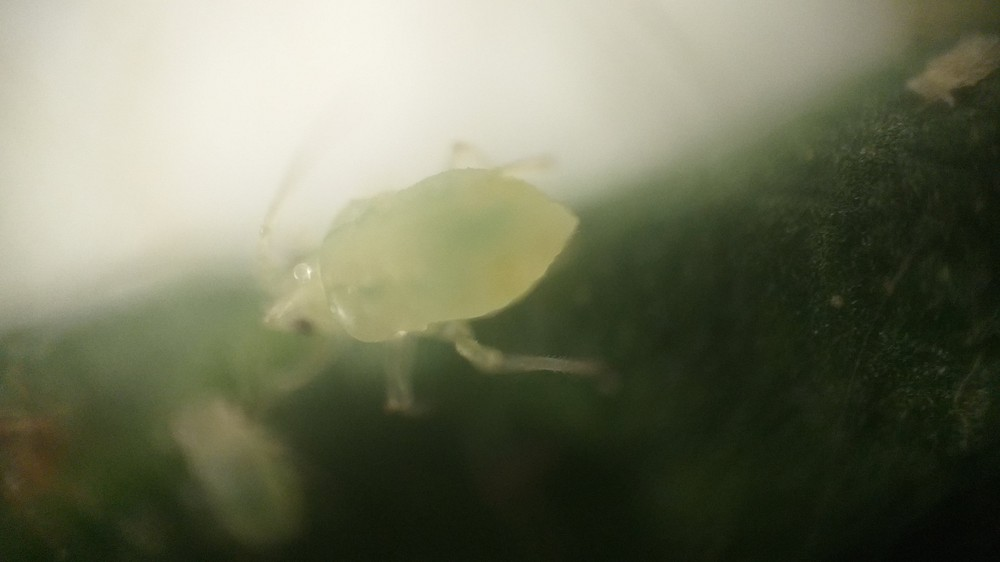Pulgon: (230, 113, 658, 439)
